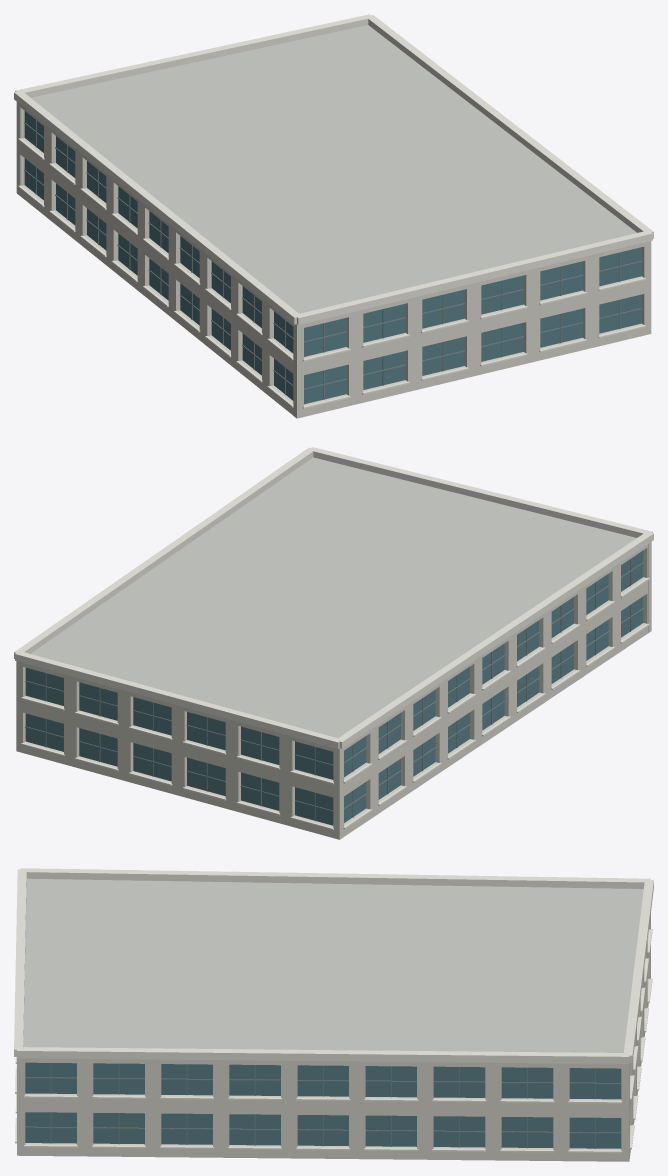
The picture shows the model from 3 angles, top to bottom: view 1: azimuth 30°, elevation 25°; view 2: azimuth 150°, elevation 25°; view 3: azimuth 270°, elevation 25°; orthographic projection. The views are drawn at different scales.
Visible parts, largest first — view 1: roof, wall, glass, trim, metal; view 2: roof, wall, glass, trim, metal; view 3: roof, wall, glass, trim, metal.
Boxes of the visible parts, left/top/right/bottom form: roof: left=31, top=25, right=636, bottom=313; wall: left=16, top=102, right=651, bottom=418; glass: left=24, top=111, right=641, bottom=404; trim: left=14, top=14, right=653, bottom=408; metal: left=24, top=120, right=642, bottom=399; roof: left=30, top=457, right=636, bottom=737; wall: left=16, top=542, right=651, bottom=839; glass: left=25, top=550, right=643, bottom=825; trim: left=14, top=447, right=653, bottom=830; metal: left=25, top=559, right=643, bottom=821; roof: left=23, top=878, right=643, bottom=1052; wall: left=17, top=913, right=650, bottom=1161; glass: left=25, top=1062, right=621, bottom=1148; trim: left=14, top=868, right=653, bottom=1153; metal: left=25, top=1063, right=621, bottom=1148.
Bounding box in the file's own units: 24.54 × 6.44 × 35.17.
